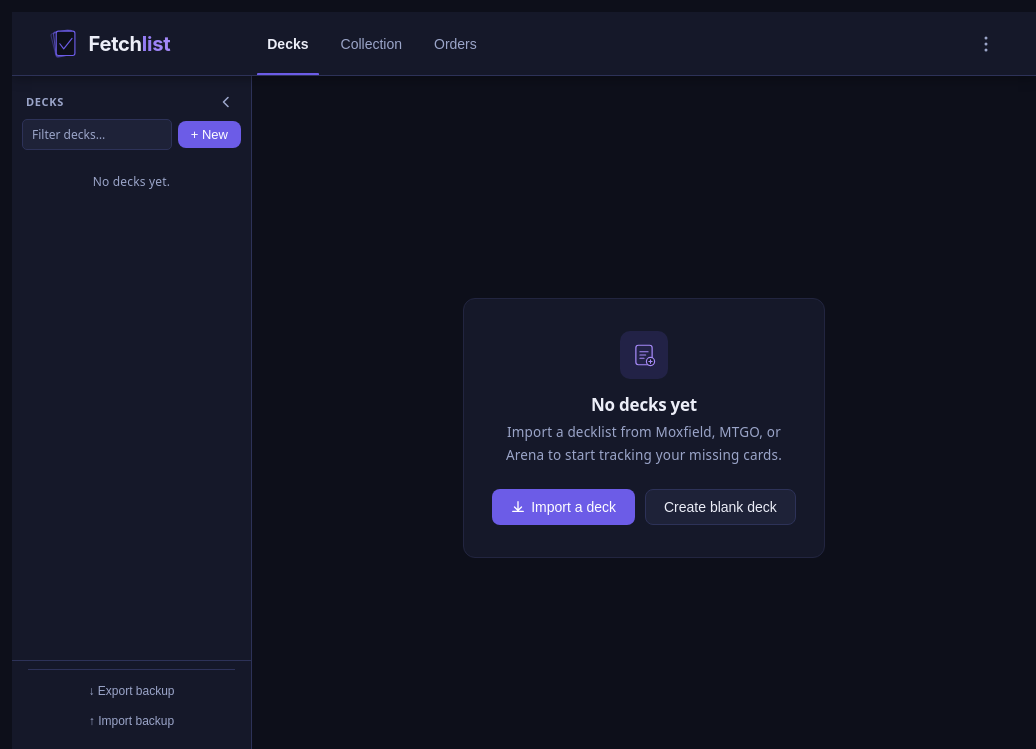
Scenario: Trade route › opens from Collection's ⋯ menu with a Collection › Trade breadcrumb
Click the button "Collection": x=371, y=44 [324,12,418,75]
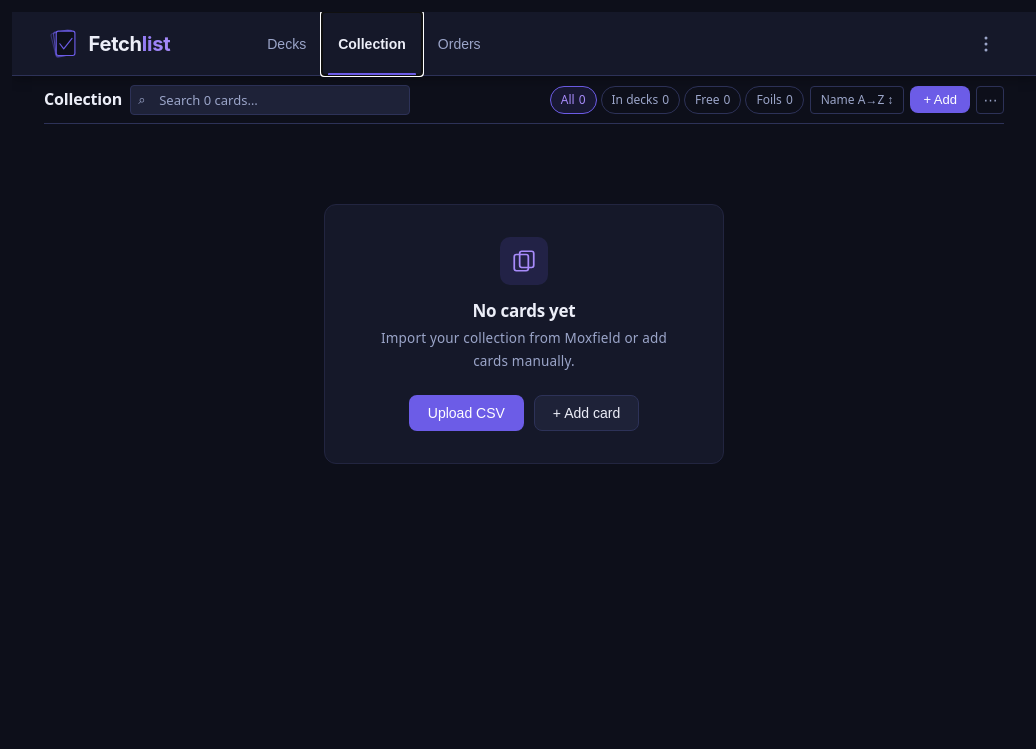
Click the button named "More options": x=990, y=100 [976,86,1004,114]
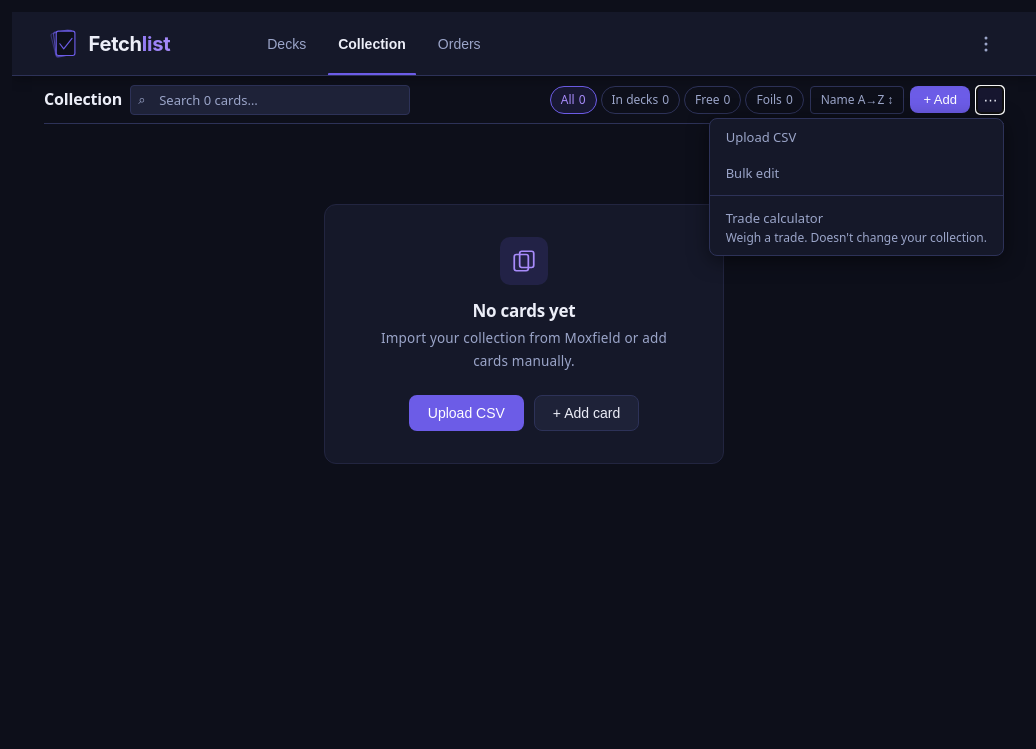
Click the button "Trade calculator": x=856, y=227 [710,200,1003,254]
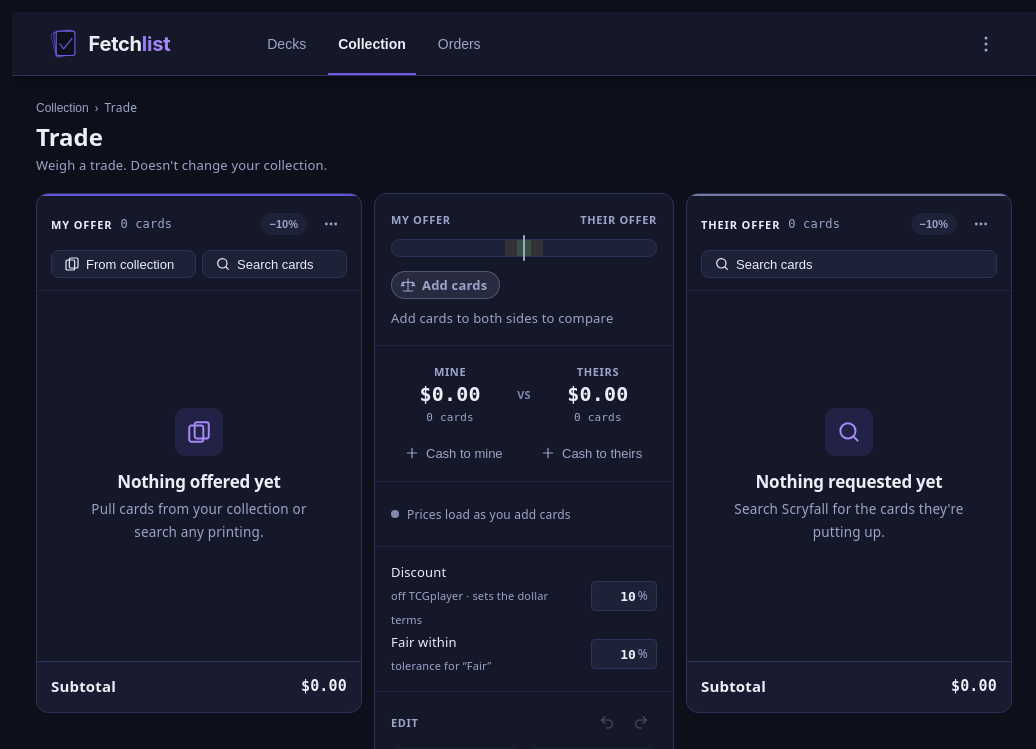
Check: the heading "Trade" is shown, box [36,120,103,153]
Check: the 2nd button "Collection" is shown, box [36,101,89,115]
Check: the element "My offer" is shown, box [36,193,362,713]
